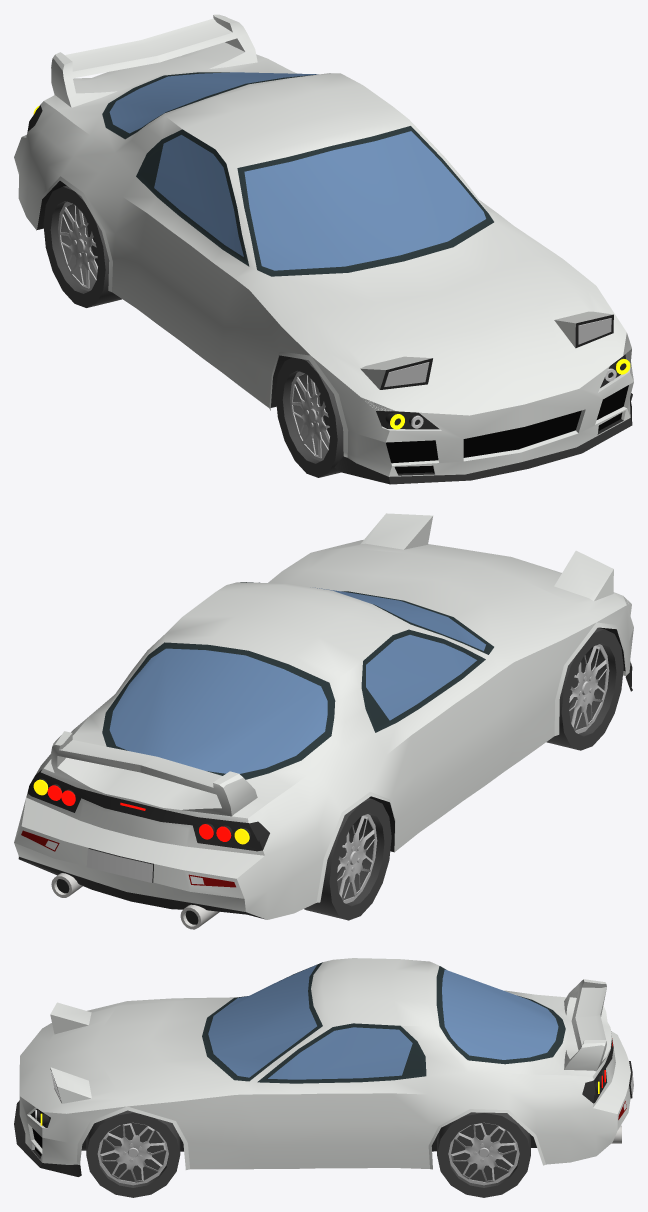
Rendered from mazda.fbx.
The picture shows the model from 3 angles, top to bottom: view 1: azimuth 30°, elevation 25°; view 2: azimuth 150°, elevation 25°; view 3: azimuth 270°, elevation 25°; orthographic projection. The views are drawn at different scales.
Parts seen in each view (by area): view 1: car_mazda, wheel_fr_mazda, wheel_br_mazda; view 2: car_mazda, wheel_br_mazda, wheel_fr_mazda; view 3: car_mazda, wheel_bl_mazda, wheel_fl_mazda.
Boxes of the visible parts, <box> form: car_mazda: <box>14,14,633,484</box>; wheel_fr_mazda: <box>275,357,343,477</box>; wheel_br_mazda: <box>43,185,121,307</box>; car_mazda: <box>14,513,633,929</box>; wheel_br_mazda: <box>304,798,391,920</box>; wheel_fr_mazda: <box>546,627,623,750</box>; car_mazda: <box>14,958,633,1176</box>; wheel_bl_mazda: <box>437,1112,530,1197</box>; wheel_fl_mazda: <box>86,1110,180,1197</box>.
Size of the model in its own units: 200 by 136 by 476.
